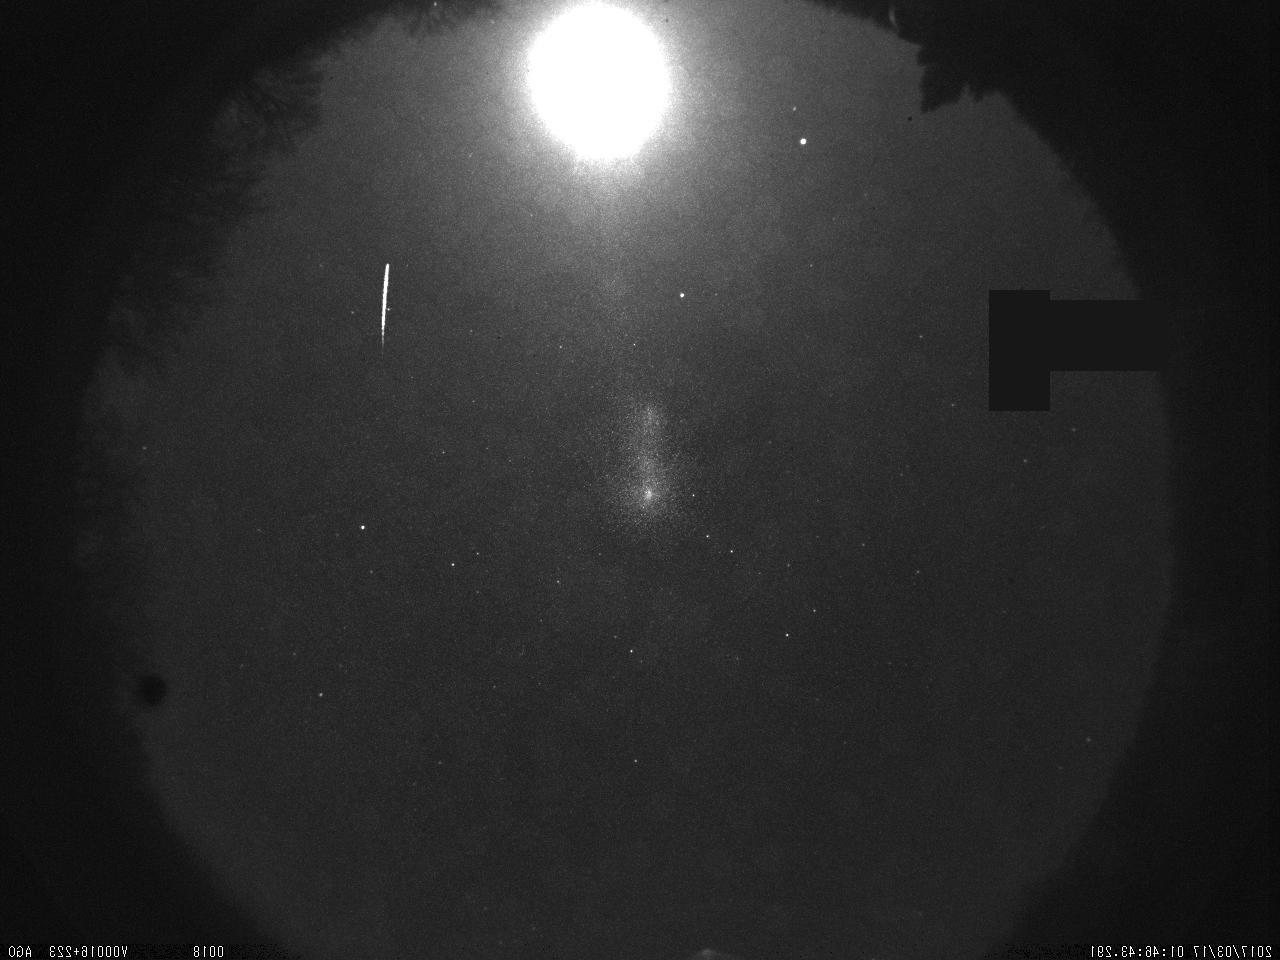meteor: (340, 243, 439, 370)
